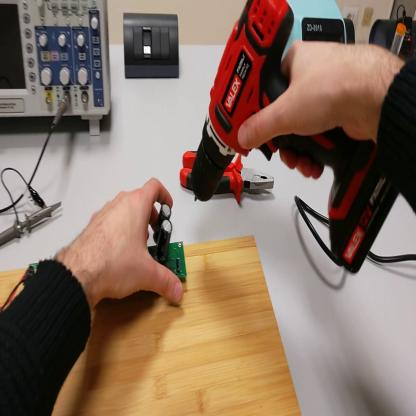electric screwdriver: (190, 1, 403, 276)
hand: (239, 39, 390, 169), (82, 179, 186, 307)
high voltage board: (1, 204, 189, 311)
oscilloscope: (1, 3, 113, 137)
oscilloscope probe tip: (3, 192, 66, 245)
pliers: (180, 145, 278, 206)
socket: (369, 13, 416, 61), (346, 18, 358, 45)
welder base: (393, 23, 408, 58)
welder station: (282, 5, 348, 63)
working area: (3, 237, 302, 414)
